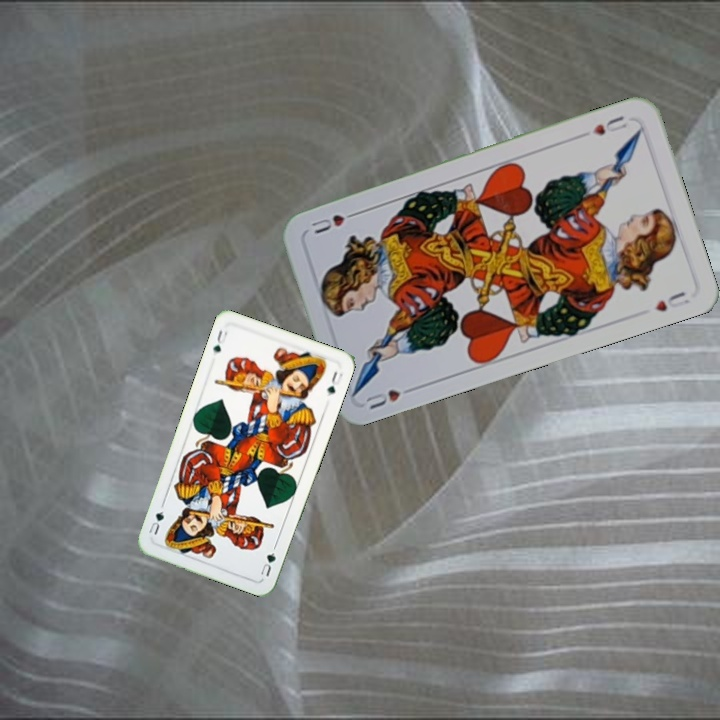GU: (257, 547, 278, 579), (209, 326, 230, 355)
HU: (361, 382, 419, 412), (588, 111, 630, 138)
